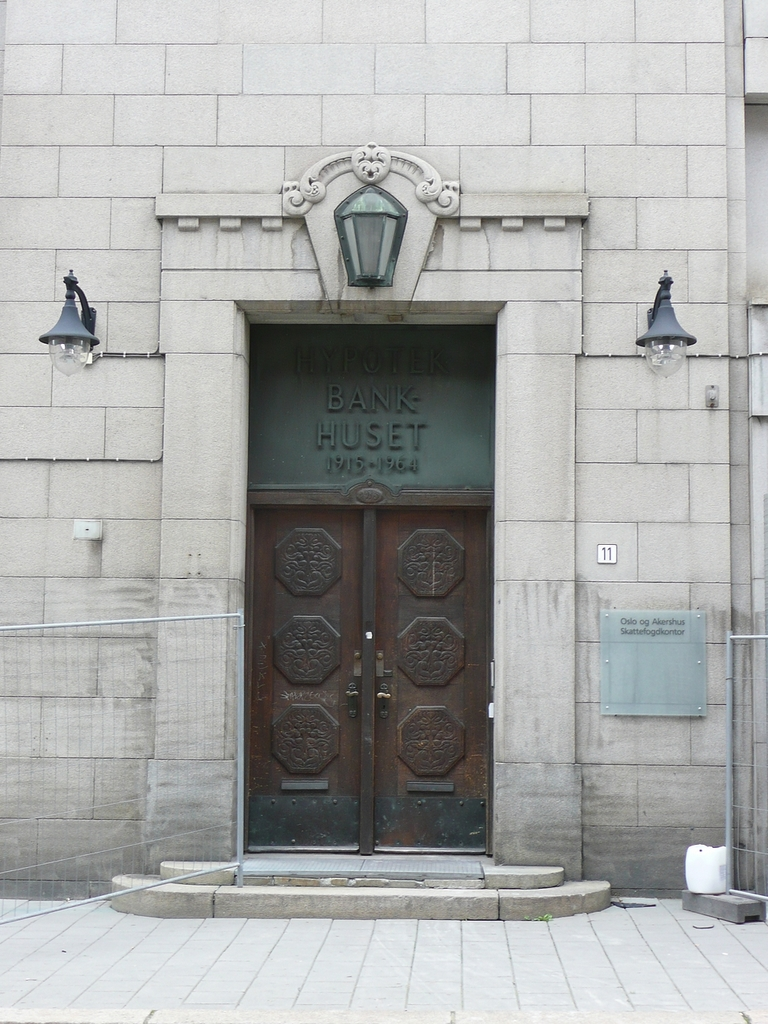door: (378, 515, 490, 852), (256, 509, 361, 849)
handle: (378, 676, 392, 717), (345, 678, 359, 710)
